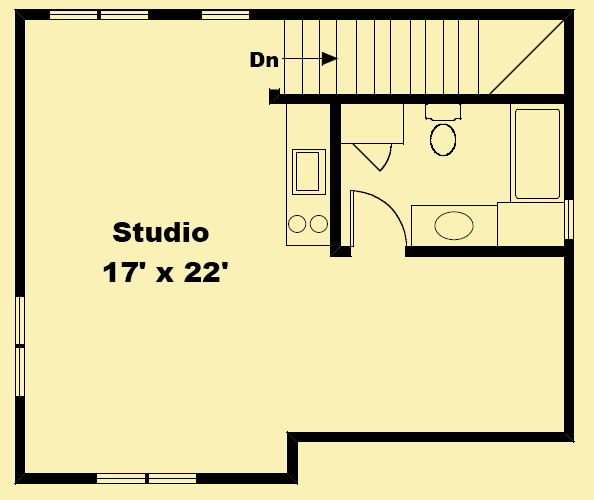door: (348, 188, 409, 250)
large_sink: (421, 103, 466, 161)
small_sink: (408, 203, 500, 247)
stairs: (280, 19, 483, 96)
tub: (509, 102, 564, 202)
window: (46, 7, 153, 25), (91, 471, 197, 486), (12, 294, 26, 399), (196, 7, 249, 21)
